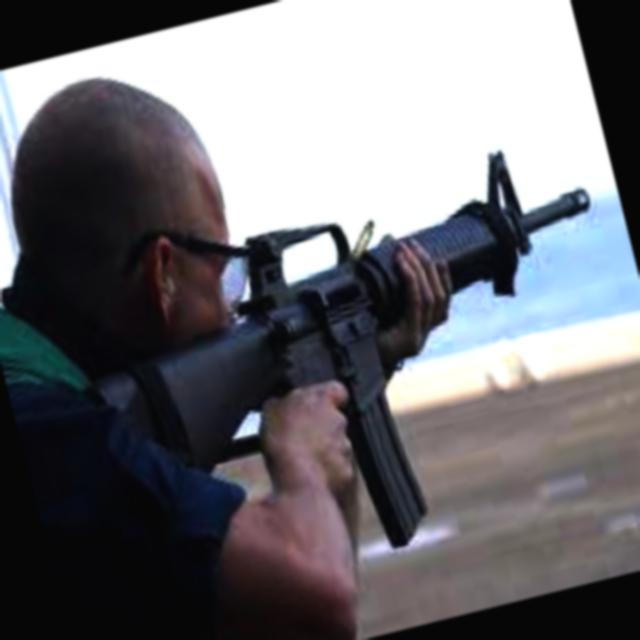m16: (91, 78, 640, 604)
